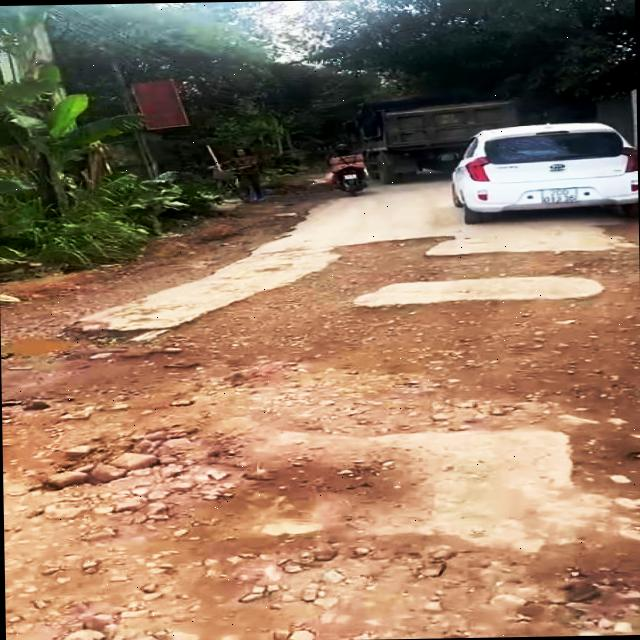pothole: (1, 374, 640, 640), (137, 228, 640, 448), (0, 327, 137, 364)
